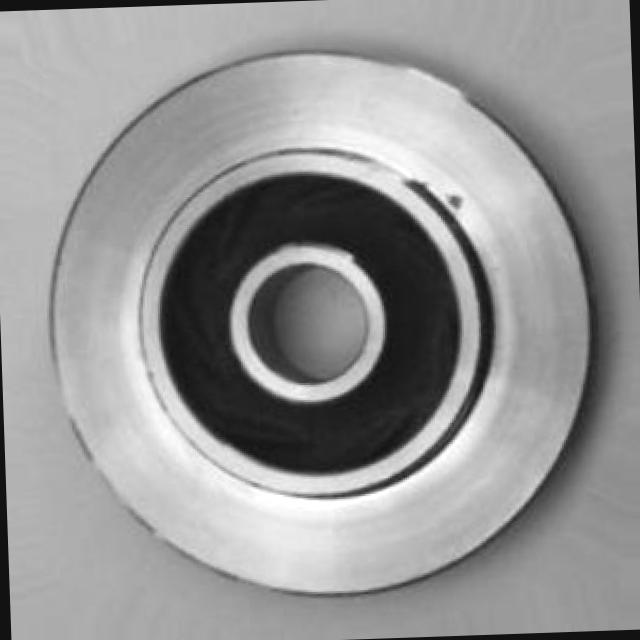Defect: (442, 181, 468, 218)
